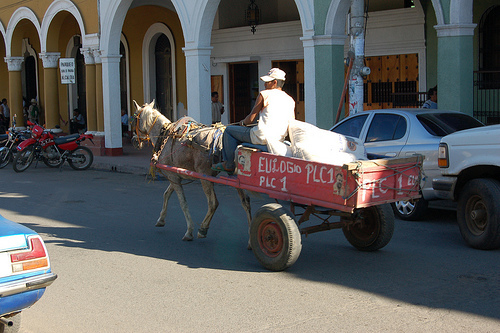horse: (128, 96, 258, 254)
